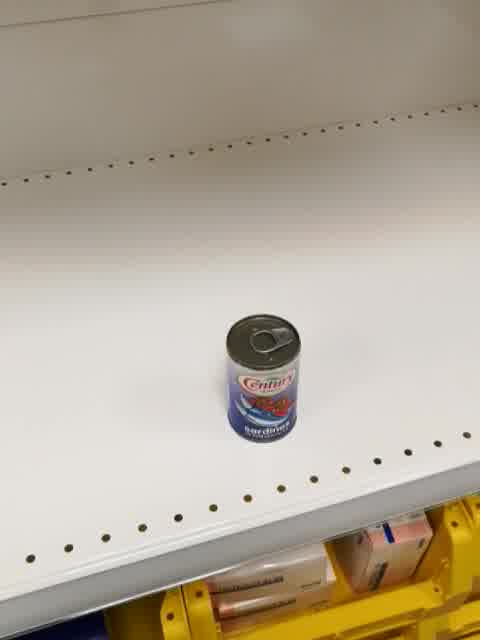sardine: (224, 313, 302, 444)
